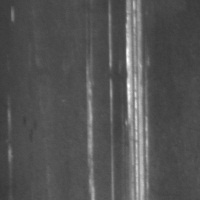scratches: (118, 1, 154, 200), (82, 65, 98, 200)
